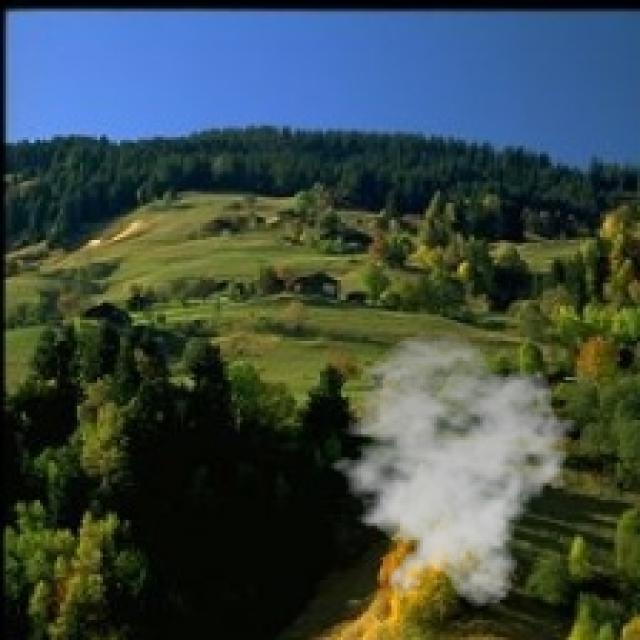smoke: (317, 332, 583, 608)
